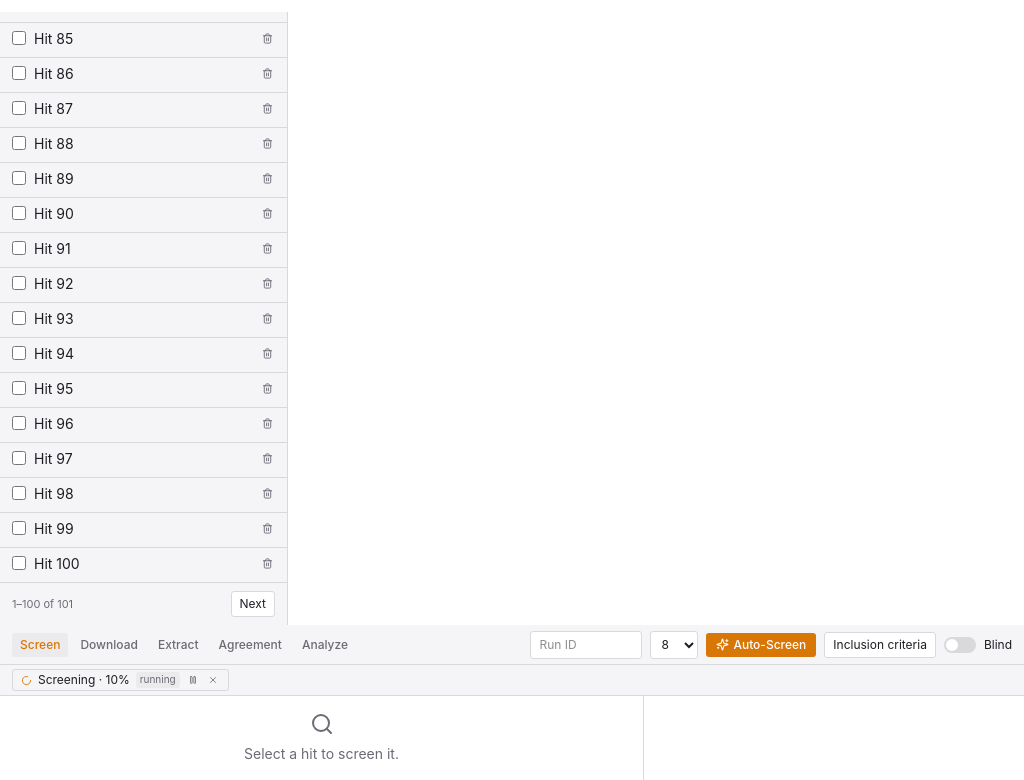
Test case: MetaView screening keyboard + job controls › loads the next page of hits
Click the button "Next".
click(253, 604)  # box [230,591,275,617]
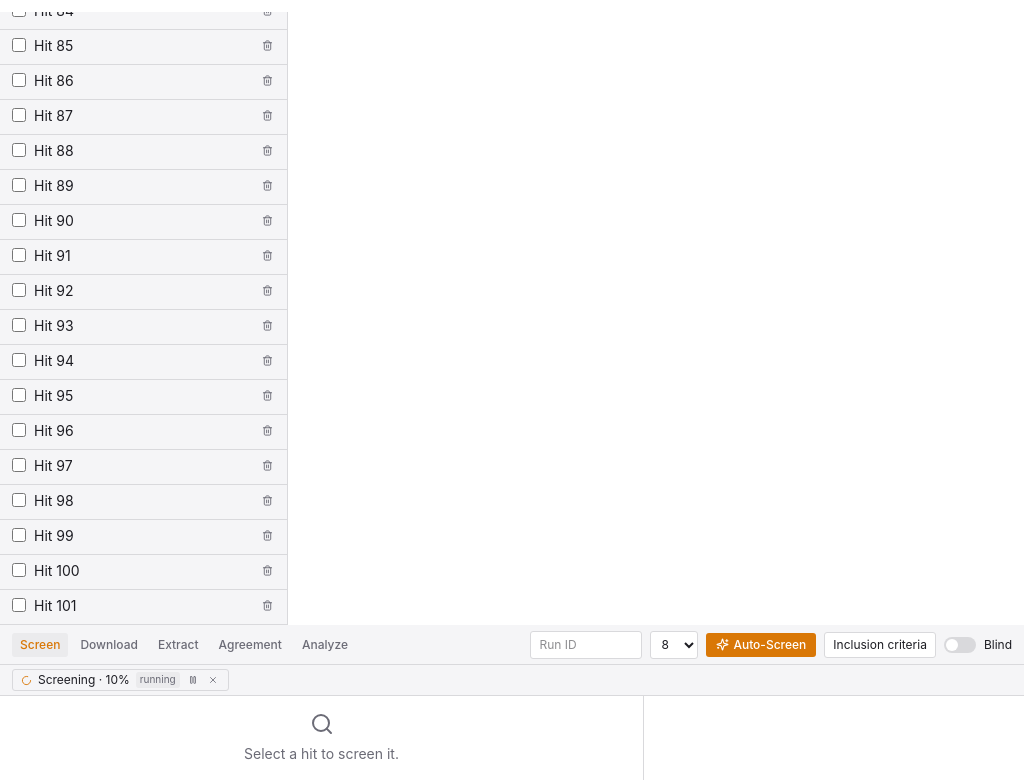
Check: the text "Hit 101" is shown, box [34,596,76,616]
